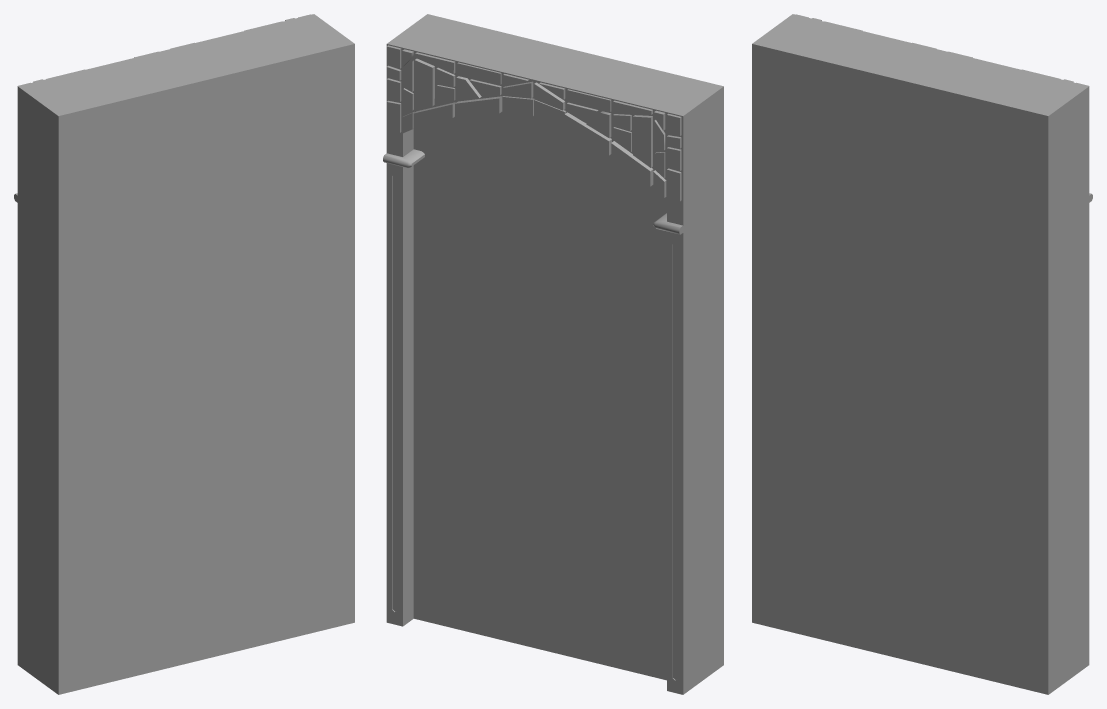
The model's file is Wall.fbx.
3 views of the same model, side by side, from view 1: azimuth 30°, elevation 25°; view 2: azimuth 150°, elevation 25°; view 3: azimuth 330°, elevation 25° (orthographic).
Parts seen in each view (by area): view 1: Wall.001; view 2: Wall.001; view 3: Wall.001.
Part boxes in pixels (x1,y1,x2,y2): Wall.001: (14,14,354,694); Wall.001: (383,14,723,694); Wall.001: (752,14,1092,694).
Bounding box in the file's own units: 174 × 324 × 45.17.
